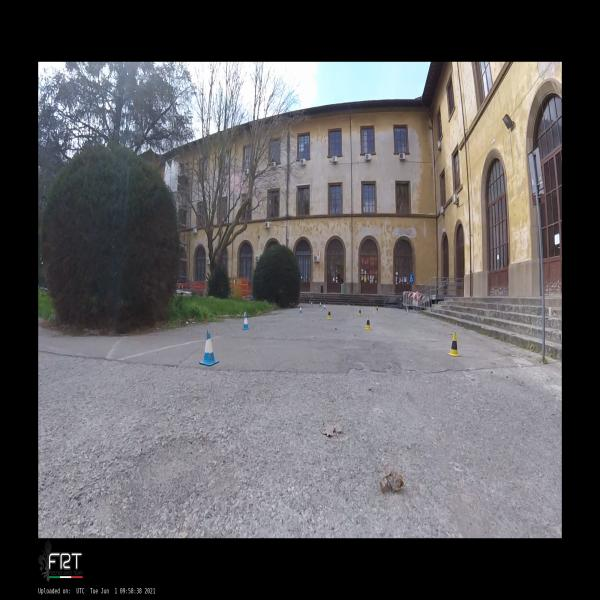blue_cone: (199, 330, 219, 366), (241, 313, 250, 330), (299, 305, 303, 313), (243, 310, 246, 320), (323, 303, 326, 309), (320, 301, 322, 307), (311, 301, 312, 306)
yellow_cone: (447, 332, 461, 357), (364, 315, 372, 330), (327, 309, 332, 319), (357, 308, 362, 316), (375, 305, 379, 313), (373, 302, 375, 308), (348, 302, 350, 306)
